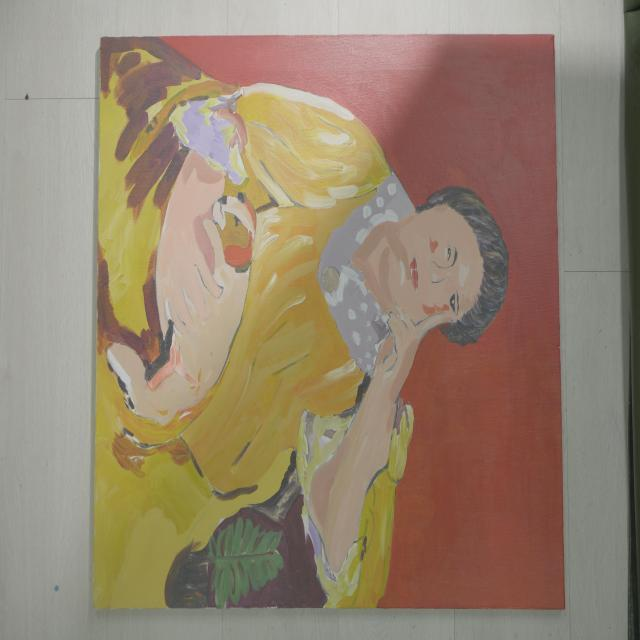painting: (94, 36, 563, 608)
